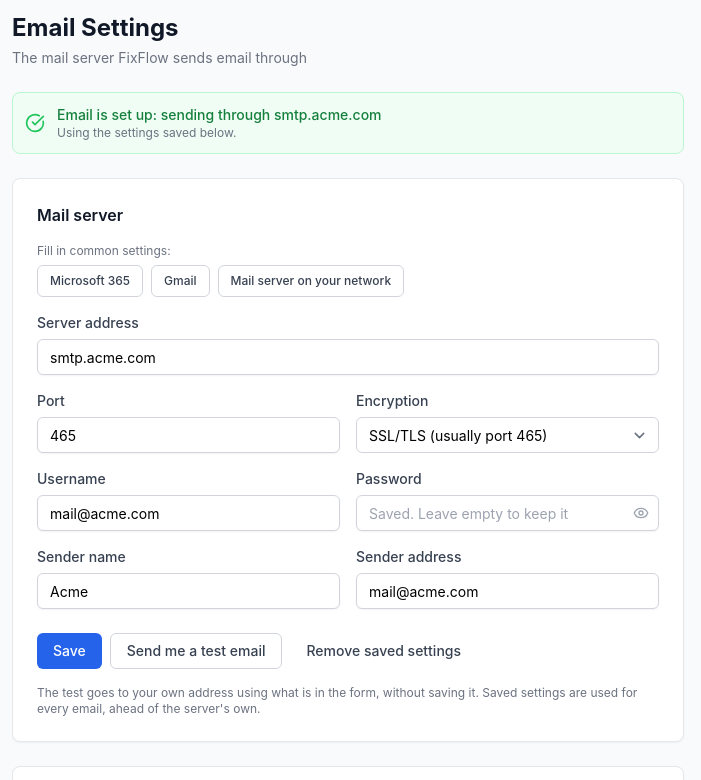
Scenario: EmailSettingsPage › sends a test through what is in the form, and says it worked
Click the button "Send me a test email": (196,651) [110,633,282,669]
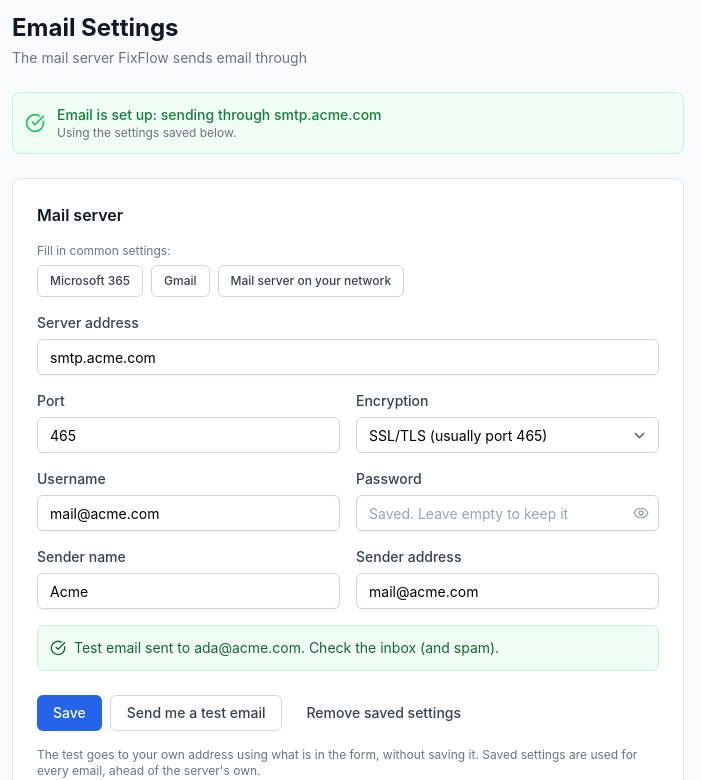
Expected: the message shows "Test email sent to ada@acme.com", [74,639,499,656]
